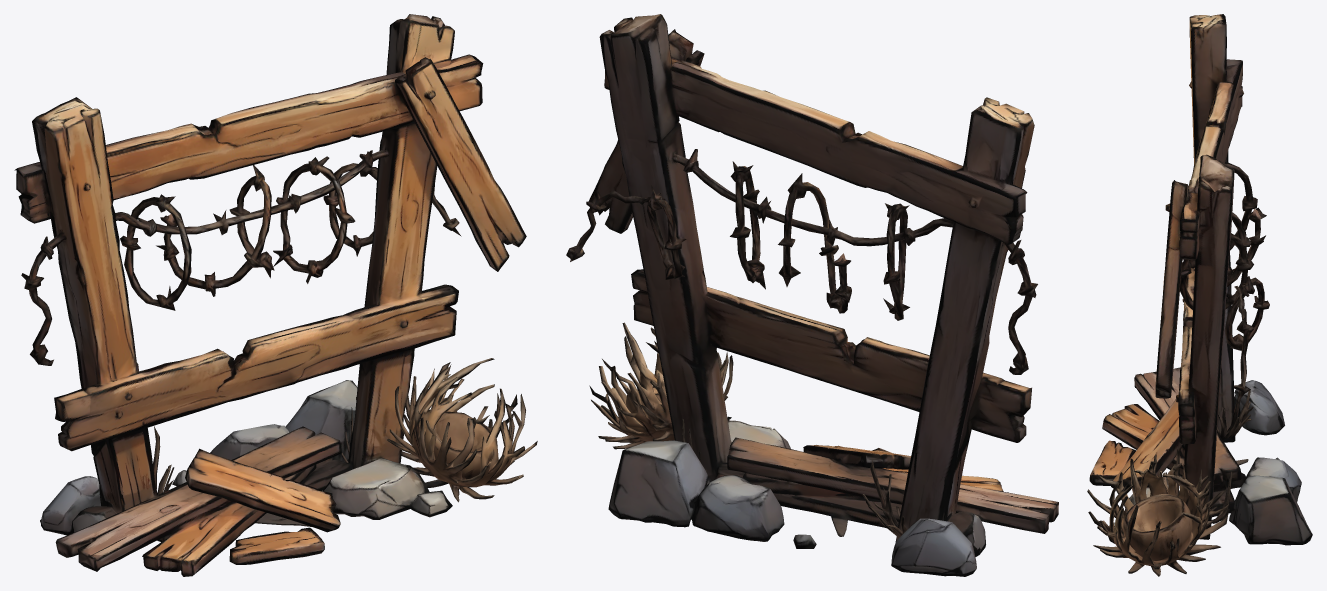
The model's file is wl_fence_broken.glb.
3 renders of one model, left to right at view 1: azimuth 30°, elevation 25°; view 2: azimuth 150°, elevation 25°; view 3: azimuth 270°, elevation 25°, orthographic. The views are drawn at different scales.
Parts seen in each view (by area): view 1: wl_fence_broken; view 2: wl_fence_broken; view 3: wl_fence_broken.
Boxes of the visible parts, x1,y1,x2,y2 form: wl_fence_broken: (14, 14, 537, 576); wl_fence_broken: (566, 14, 1058, 576); wl_fence_broken: (1087, 14, 1312, 576).
Size of the model in its own units: 1 by 0.9219 by 0.4732.
1 material, 1 textured.
